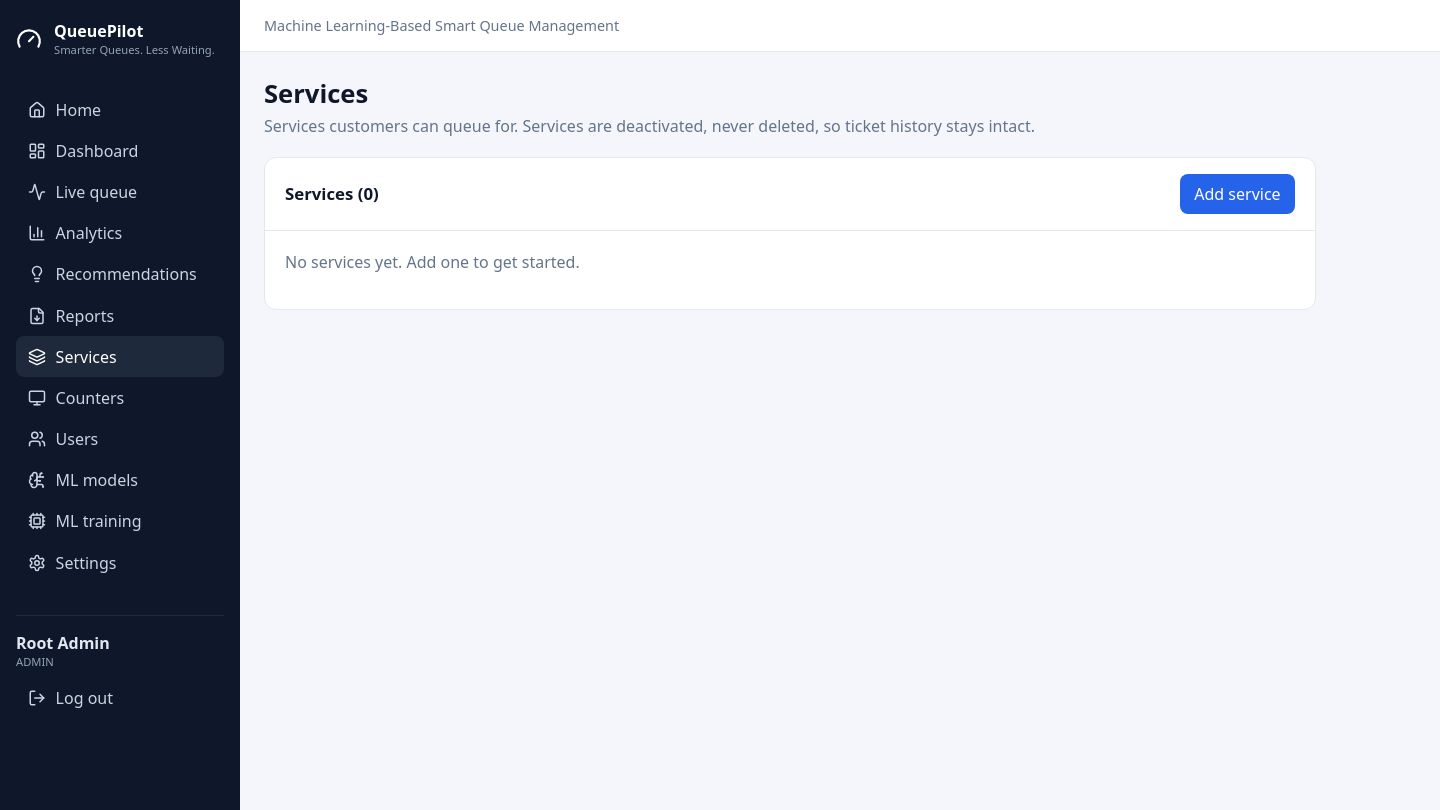
server validation errors appear next to the fields
The width and height of the screenshot is (1440, 810).
Expected: the text "No services yet. Add one to get started." is shown, [285, 251, 580, 273]
Step 1. Click the button "Add service" → point(1237, 194), box [1180, 174, 1295, 214]
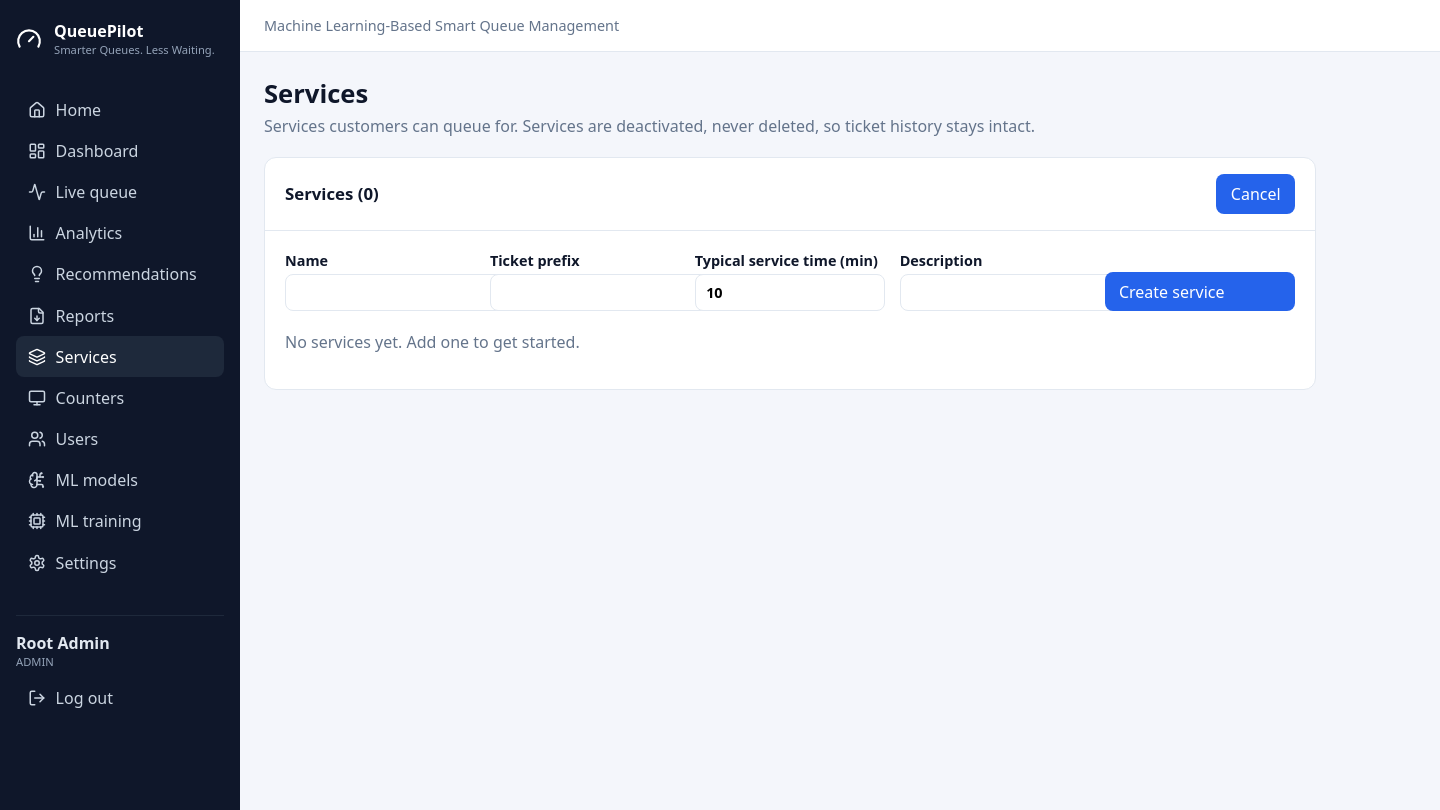
Step 2. Click the button "Create service" → point(1200, 292), box [1104, 272, 1295, 311]
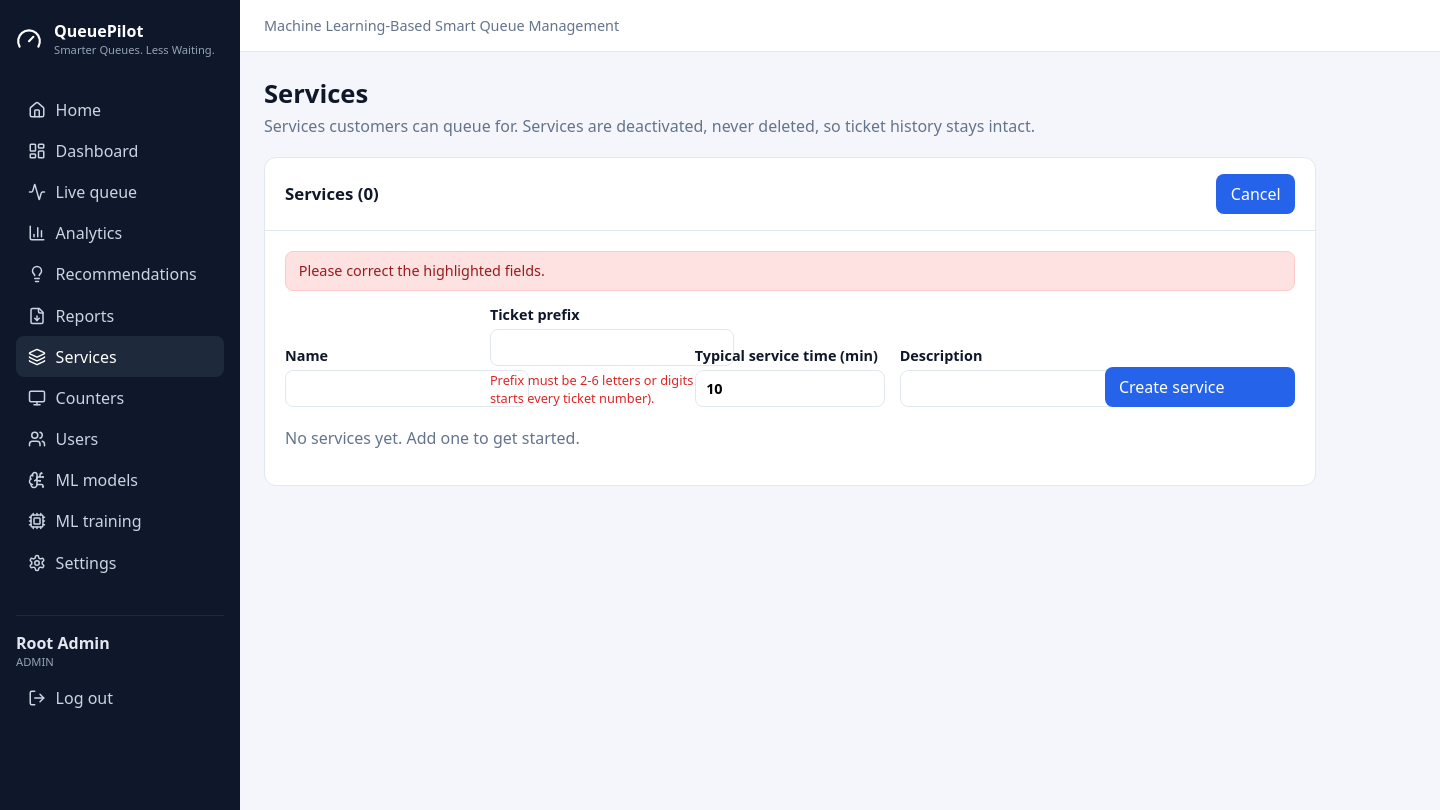
Now the text "Prefix must be 2-6 letters or digits" is shown, box [490, 371, 708, 407]
